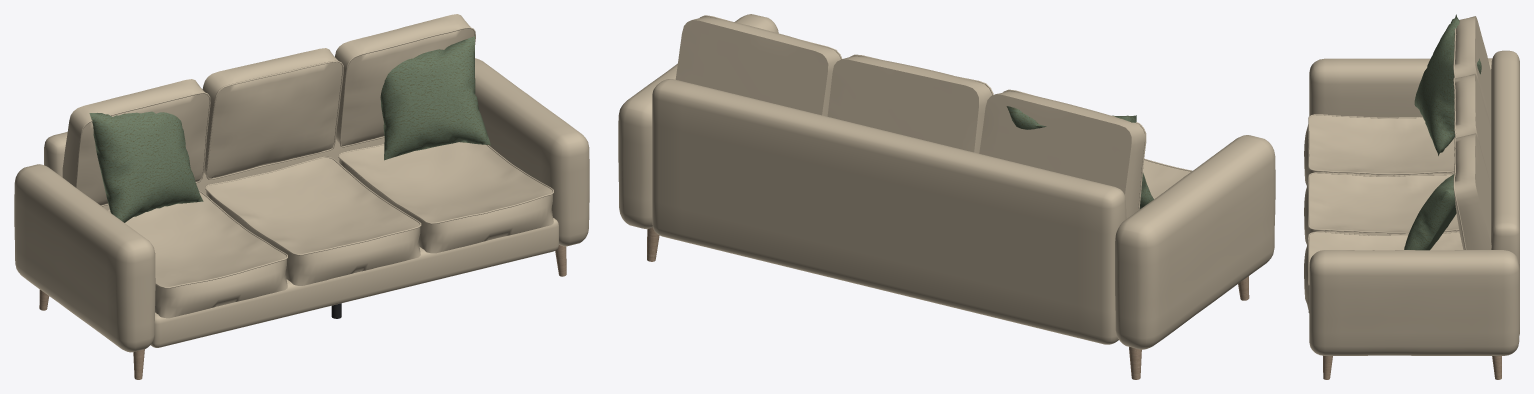
Rendered from sofa_3p_sand.glb.
The picture shows the model from 3 angles, left to right: view 1: azimuth 30°, elevation 25°; view 2: azimuth 150°, elevation 25°; view 3: azimuth 270°, elevation 25°; orthographic projection. The views are drawn at different scales.
Parts seen in each view (by area): view 1: sofa_soft, sofa_hard; view 2: sofa_soft, sofa_hard; view 3: sofa_soft, sofa_hard.
Part boxes in pixels (<box>): sofa_soft: <box>14,14,589,352</box>; sofa_hard: <box>39,245,566,379</box>; sofa_soft: <box>618,14,1275,349</box>; sofa_hard: <box>647,227,1249,379</box>; sofa_soft: <box>1304,14,1519,355</box>; sofa_hard: <box>1323,355,1501,379</box>.
Size of the model in its own units: 2.11 by 0.8897 by 0.9248.
4 materials, 2 textured.
